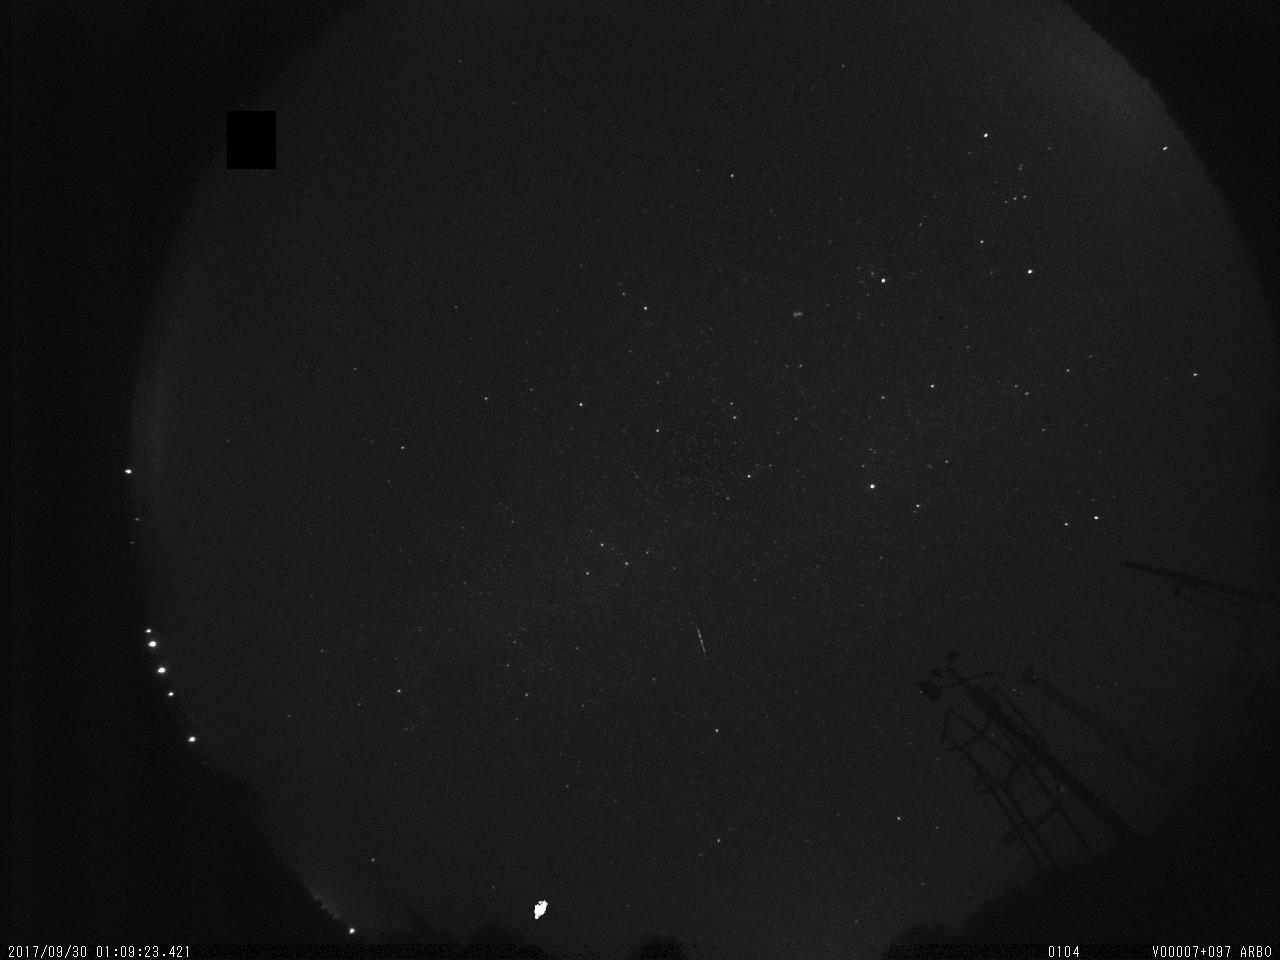TLE: (531, 887, 552, 925)
